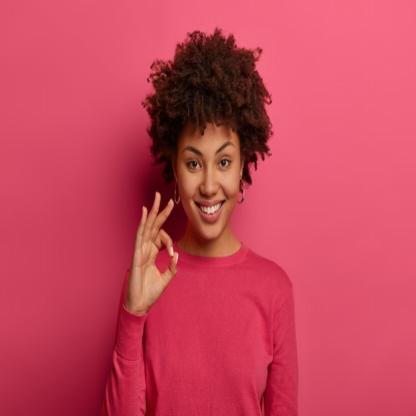ok: (128, 189, 182, 320)
